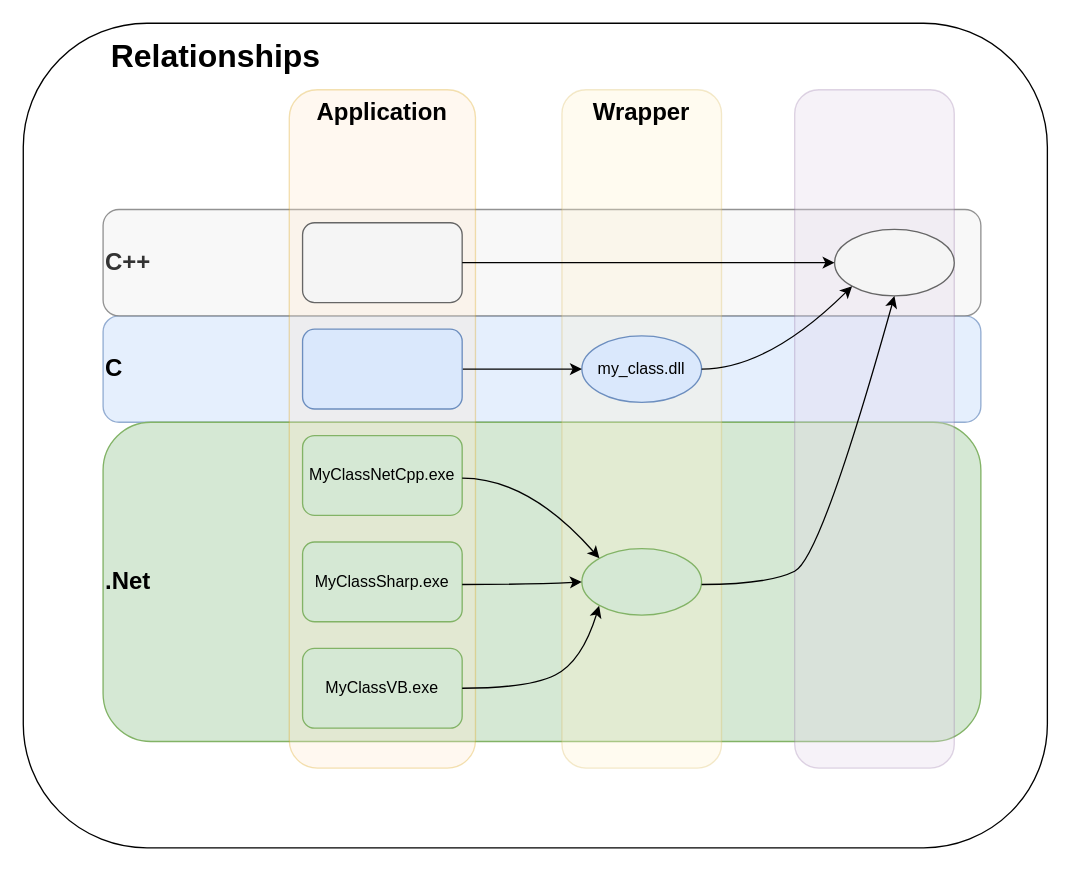
This 1071x871 diagram has some shape labels left out. The shapes that lost their labels are listed below. From the top down, each one's centre as x and y in pixels, then its label:
the point at 381,262: MyClassCpp.exe
the point at 893,262: MyClass.dll
the point at 381,368: my_classc.exe
the point at 873,428: Library
the point at 641,581: MyClassNet.dll
